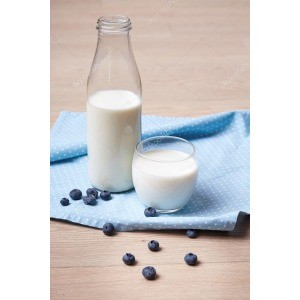milk_brain food: (78, 94, 136, 190), (135, 154, 195, 215)
